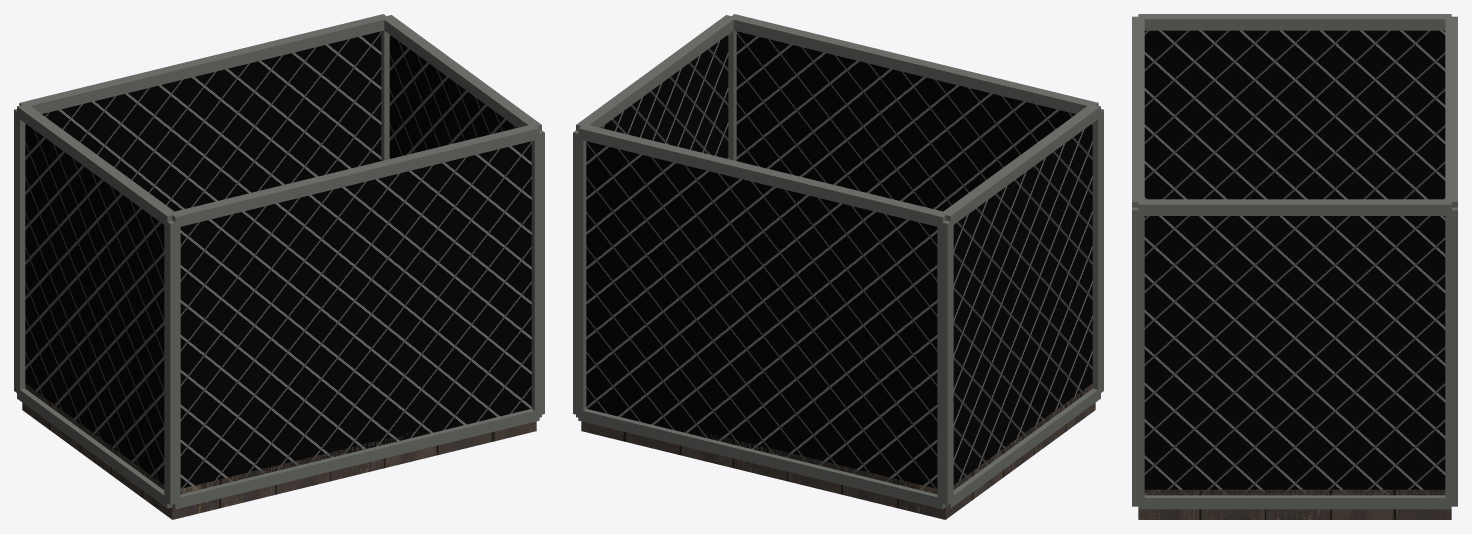
Rendered from wire_cage.glb.
3 renders of one model, left to right at view 1: azimuth 30°, elevation 25°; view 2: azimuth 150°, elevation 25°; view 3: azimuth 270°, elevation 25°, orthographic. The views are drawn at different scales.
Parts seen in each view (by area): view 1: Cage_wire_end_-0.75, Cage_frame_separate, Cage_wire_side_-1.05, Cage_wire_end_0.75, Cage_wire_side_1.05, Cage_floor; view 2: Cage_wire_end_0.75, Cage_frame_separate, Cage_wire_side_-1.05, Cage_wire_end_-0.75, Cage_wire_side_1.05, Cage_floor; view 3: Cage_wire_side_1.05, Cage_wire_side_-1.05, Cage_frame_separate, Cage_floor.
Part boxes in pixels (x1,y1,x2,y2): Cage_wire_end_-0.75: [180, 141, 531, 493]; Cage_frame_separate: [14, 14, 544, 509]; Cage_wire_side_-1.05: [25, 123, 164, 487]; Cage_wire_end_0.75: [42, 31, 381, 211]; Cage_wire_side_1.05: [389, 35, 516, 158]; Cage_floor: [22, 383, 536, 519]; Cage_wire_end_0.75: [586, 141, 937, 493]; Cage_frame_separate: [573, 14, 1103, 509]; Cage_wire_side_-1.05: [953, 123, 1092, 487]; Cage_wire_end_-0.75: [736, 31, 1075, 211]; Cage_wire_side_1.05: [601, 35, 728, 158]; Cage_floor: [581, 383, 1095, 519]; Cage_wire_side_1.05: [1144, 216, 1445, 494]; Cage_wire_side_-1.05: [1144, 30, 1445, 199]; Cage_frame_separate: [1132, 14, 1457, 509]; Cage_floor: [1138, 489, 1451, 519].
Size of the model in its own units: 2.16 by 1.68 by 1.56.
Materials: 3 (2 with a texture image).
